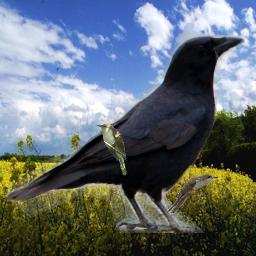Crow: (6, 35, 245, 233)
Cuckoo: (166, 174, 218, 213), (95, 123, 128, 177)
